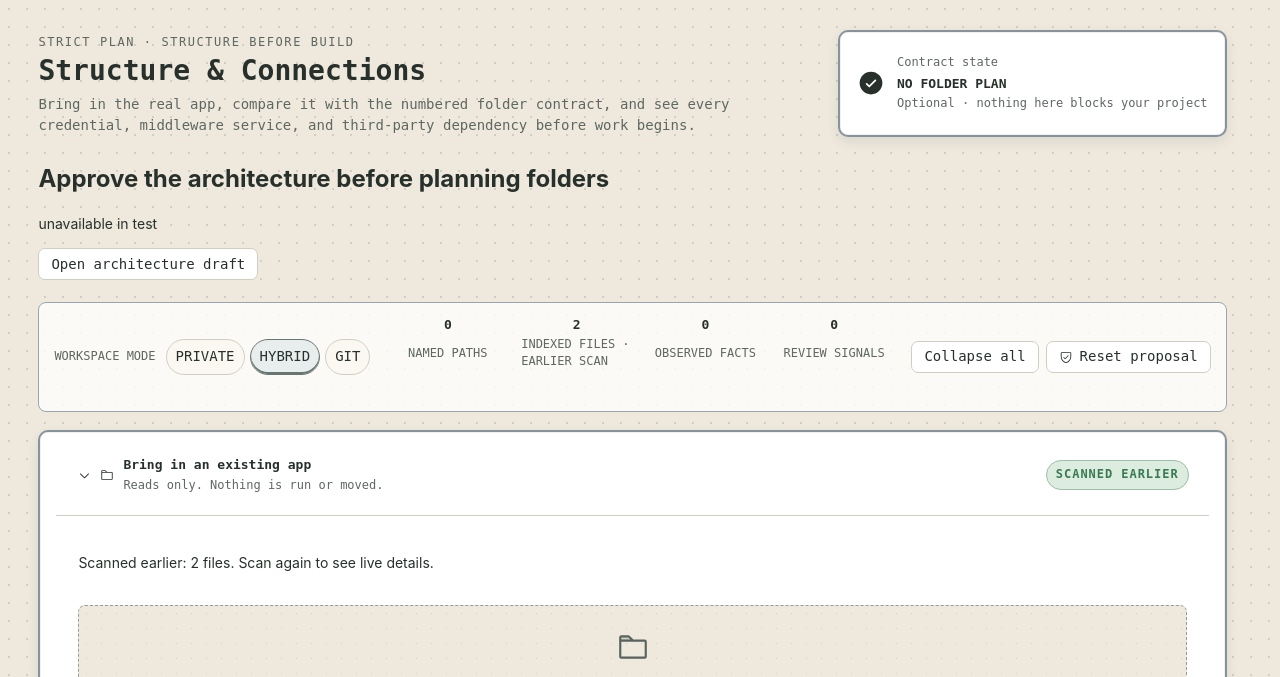
Test: Define controls › workspace mode buttons and Collapse all change the draft and panels
Click the button "git" at (348, 357), box [325,339,370,375]
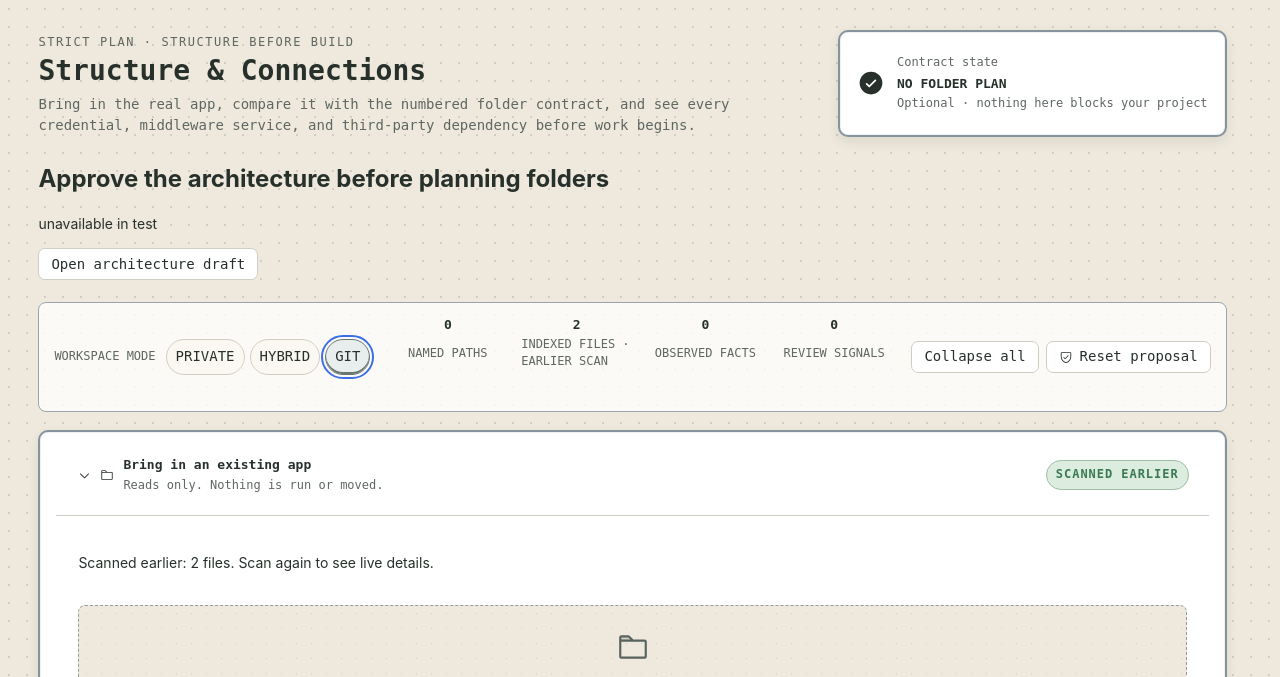
Result: the button "git" is pressed at [325,339,370,375]
Click the button "Collapse all" at (975, 357), box [911,341,1039,373]
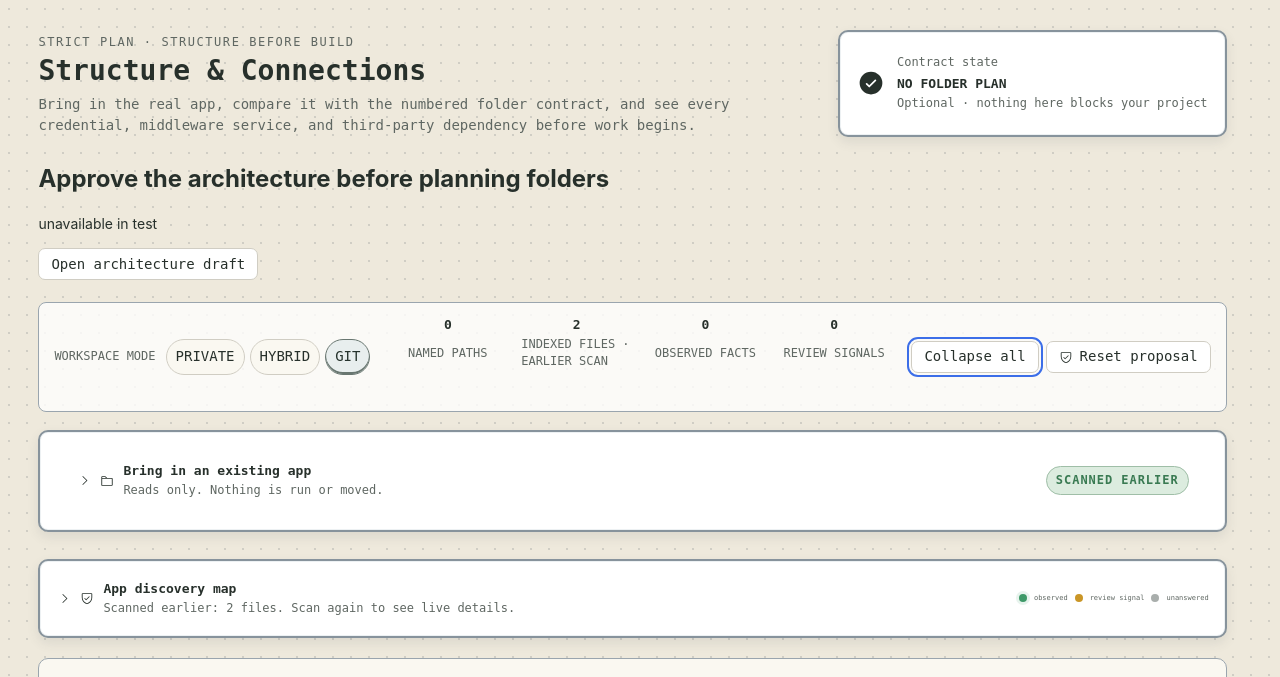
Result: the button "Bring in an existing app" is collapsed at [76,457,1028,505]
